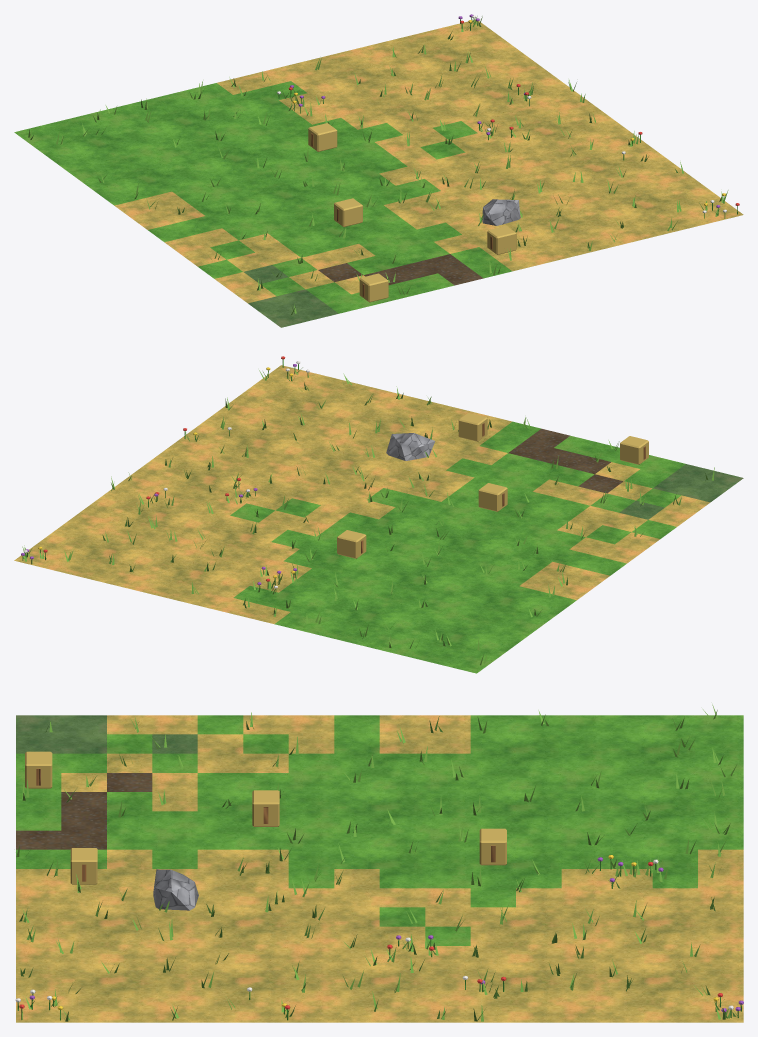
The model's file is chunk_0_13.glb.
3 renders of one model, top to bottom at view 1: azimuth 30°, elevation 25°; view 2: azimuth 150°, elevation 25°; view 3: azimuth 270°, elevation 25°, orthographic. The views are drawn at different scales.
Visible parts, largest first — view 1: chunk_0_13; view 2: chunk_0_13; view 3: chunk_0_13.
Part boxes in pixels (<box>): chunk_0_13: <box>14,14,743,327</box>; chunk_0_13: <box>14,356,743,673</box>; chunk_0_13: <box>15,704,743,1022</box>.
Size of the model in its own units: 16.14 by 1.14 by 16.05.
Materials: 13 (7 with a texture image).
